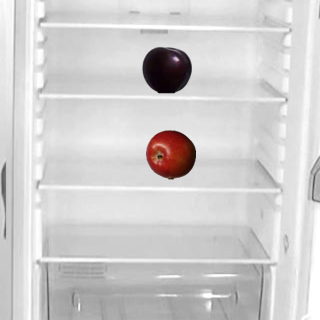Apple Braeburn: (145, 129, 195, 179)
Cherry Wax Black: (141, 44, 191, 94)
